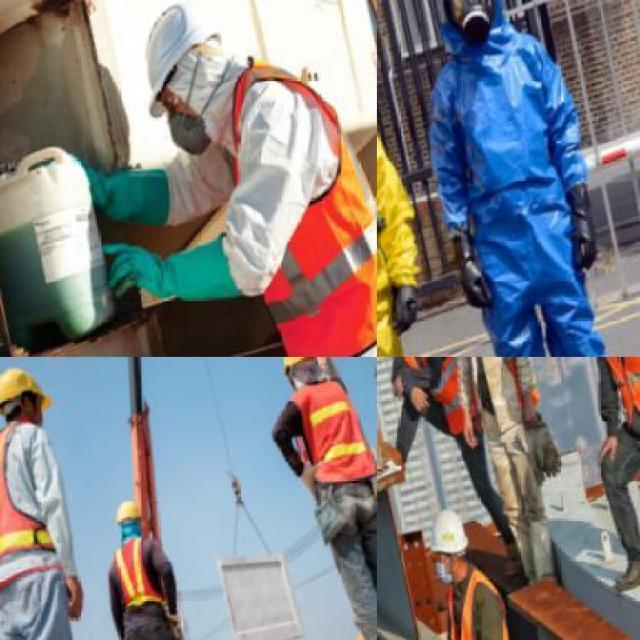hat: (110, 0, 249, 132), (0, 357, 65, 437), (423, 505, 477, 569), (268, 357, 331, 393), (107, 495, 156, 539)
